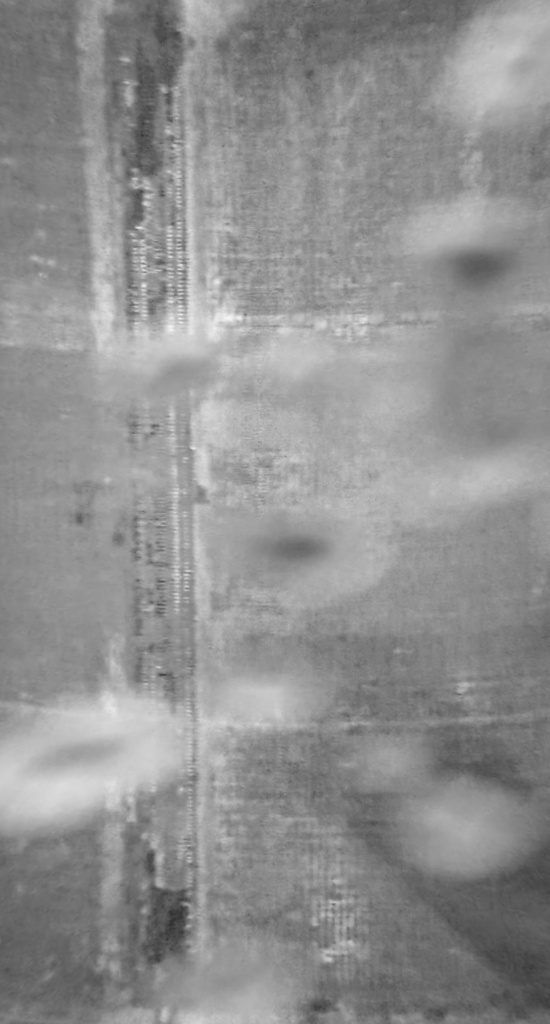splice: (107, 1, 210, 1023)
